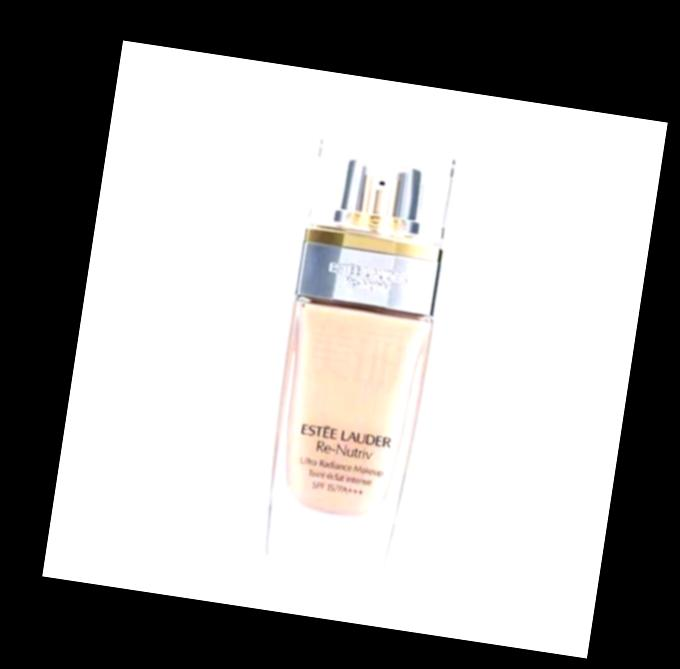cosmetic: (256, 138, 454, 576)
